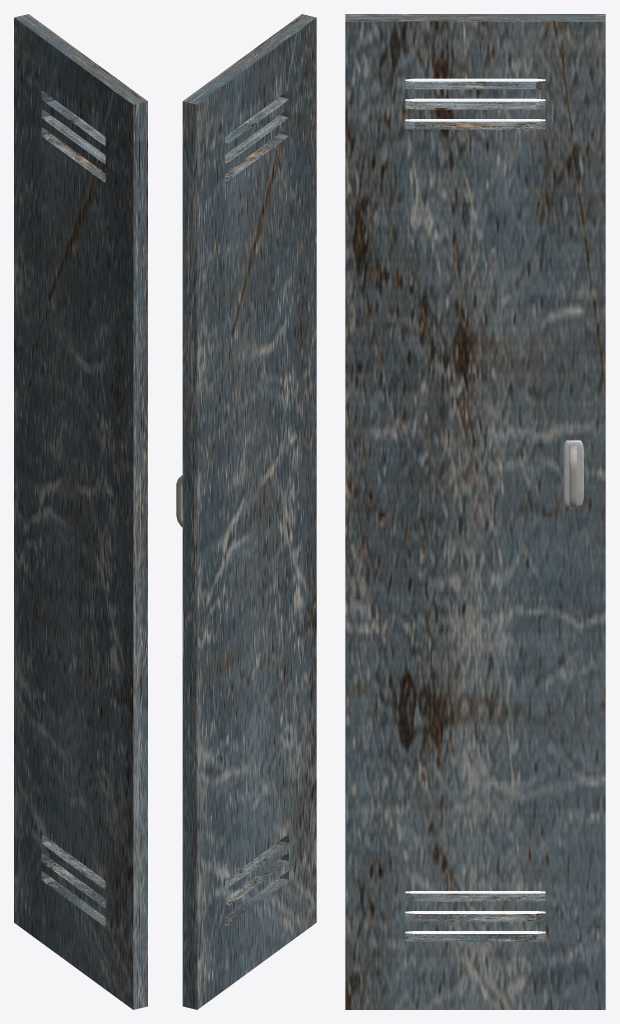
Rendered from locker_door.glb.
3 renders of one model, left to right at view 1: azimuth 30°, elevation 25°; view 2: azimuth 150°, elevation 25°; view 3: azimuth 270°, elevation 25°, orthographic. The views are drawn at different scales.
Parts seen in each view (by area): view 1: Cube.005; view 2: Cube.005; view 3: Cube.005, Cube.
Boxes of the visible parts, x1=… form: Cube.005: x1=14, y1=14, x2=147, y2=1009; Cube.005: x1=182, y1=14, x2=316, y2=1009; Cube.005: x1=345, y1=14, x2=605, y2=1009; Cube: x1=563, y1=440, x2=583, y2=506.
Size of the model in its own units: 0.2754 by 6.89 by 1.65.
Materials: 2 (2 with a texture image).
